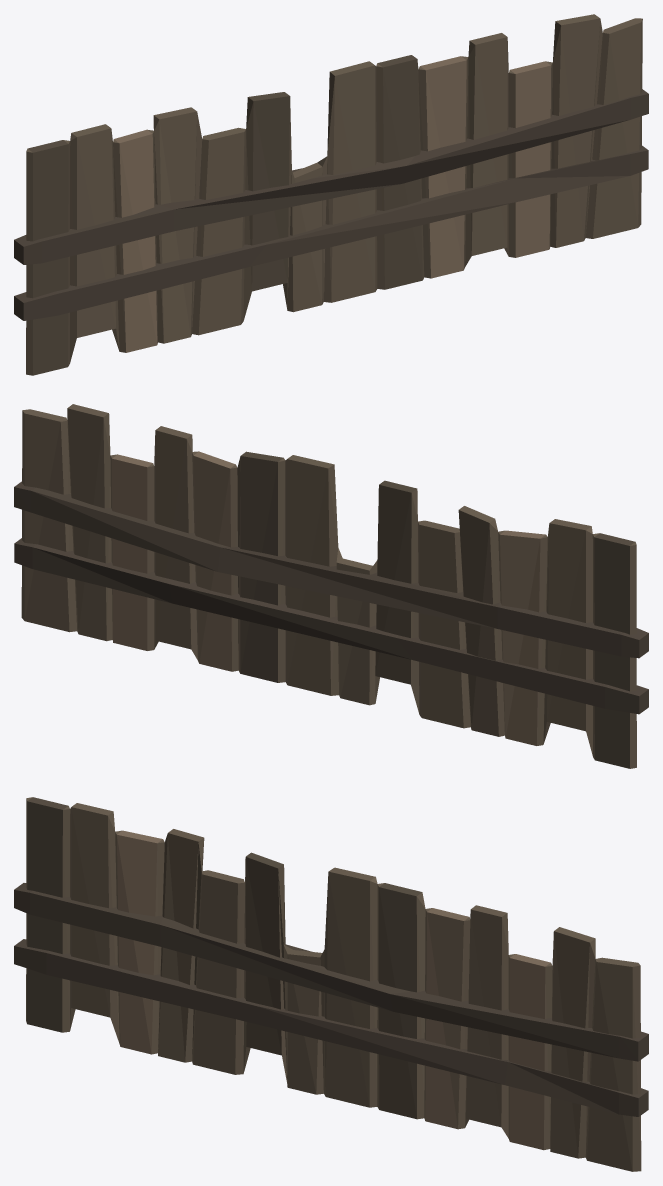
Rendered from SM_Prop_Fence_03.glb.
3 renders of one model, top to bottom at view 1: azimuth 30°, elevation 25°; view 2: azimuth 150°, elevation 25°; view 3: azimuth 330°, elevation 25°, orthographic.
Visible parts, largest first — view 1: SM_Prop_Fence_03_part00; view 2: SM_Prop_Fence_03_part00; view 3: SM_Prop_Fence_03_part00.
Part boxes in pixels (x1,y1,x2,y2): SM_Prop_Fence_03_part00: (14, 14, 648, 375); SM_Prop_Fence_03_part00: (14, 404, 648, 768); SM_Prop_Fence_03_part00: (14, 797, 648, 1171).
Size of the model in its own units: 4.01 by 1.4 by 0.2237.
1 material, 1 textured.
